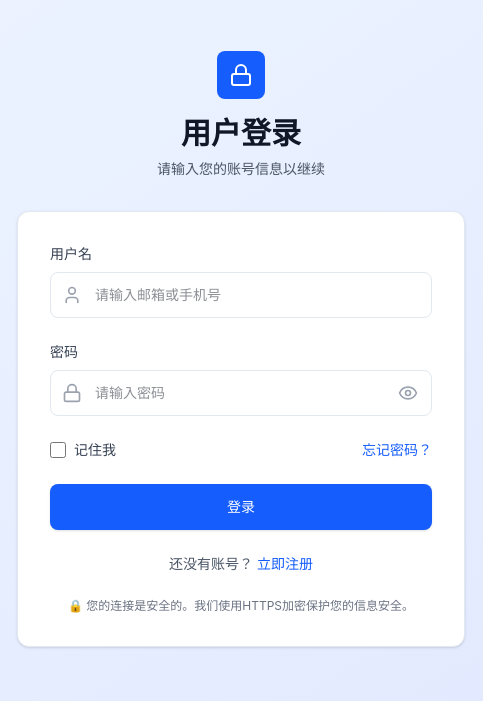
Test: LoginPage › 登录功能 › 应该处理用户被禁用的情况
The width and height of the screenshot is (483, 701).
Type "inactive@example.com" into the field labelled "用户名".
click(241, 295); type("inactive@example.com")  # box [50,272,432,318]
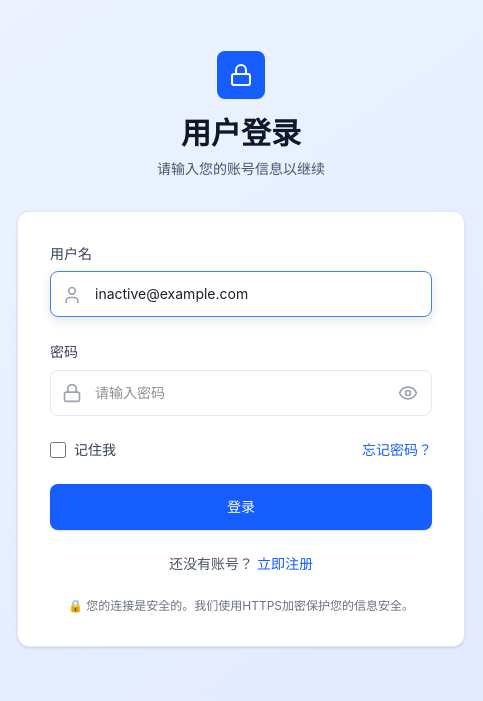
Type "Inactive123" into the password field labelled "密码".
click(241, 393); type("Inactive123")  # box [50,370,432,416]
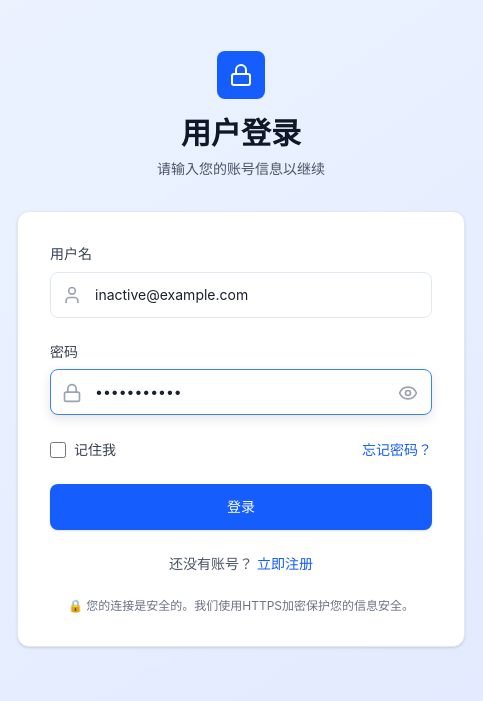
Click the button "登录".
click(241, 507)  # box [50,484,432,530]
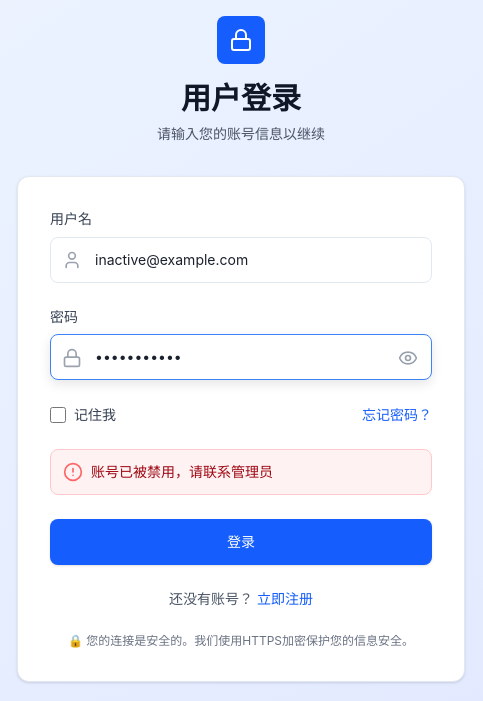
Expected: the text "账号已被禁用，请联系管理员" is shown, [91,462,273,482]
